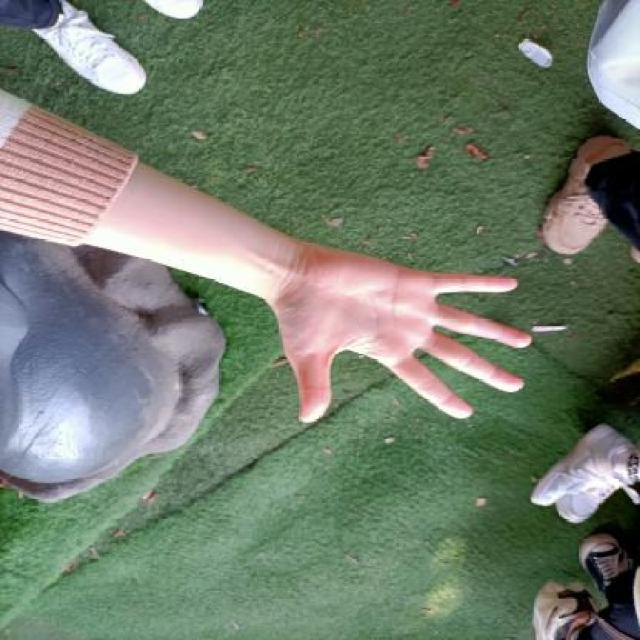bare_hand: (262, 237, 548, 428)
